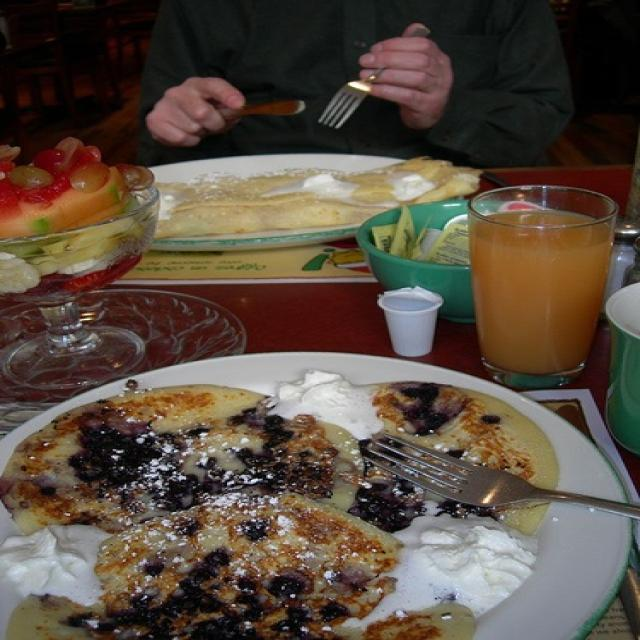diningtable: (4, 169, 636, 637)
person: (135, 1, 574, 162)
